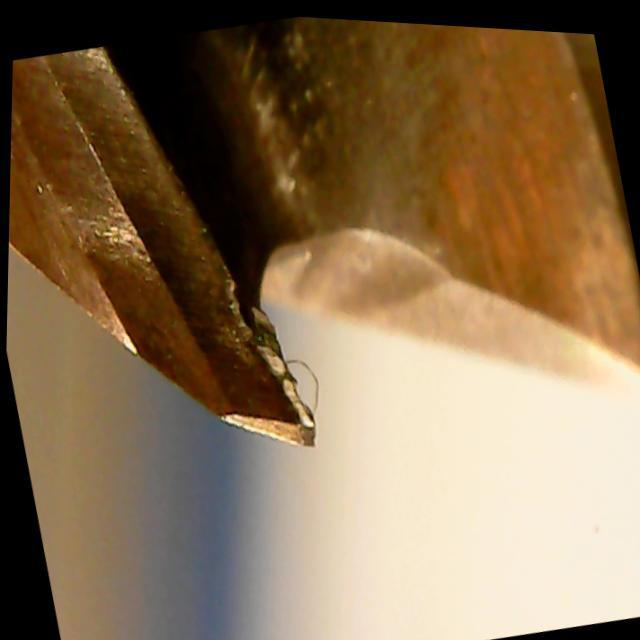Tool-wear-class-2: (104, 153, 335, 497)
